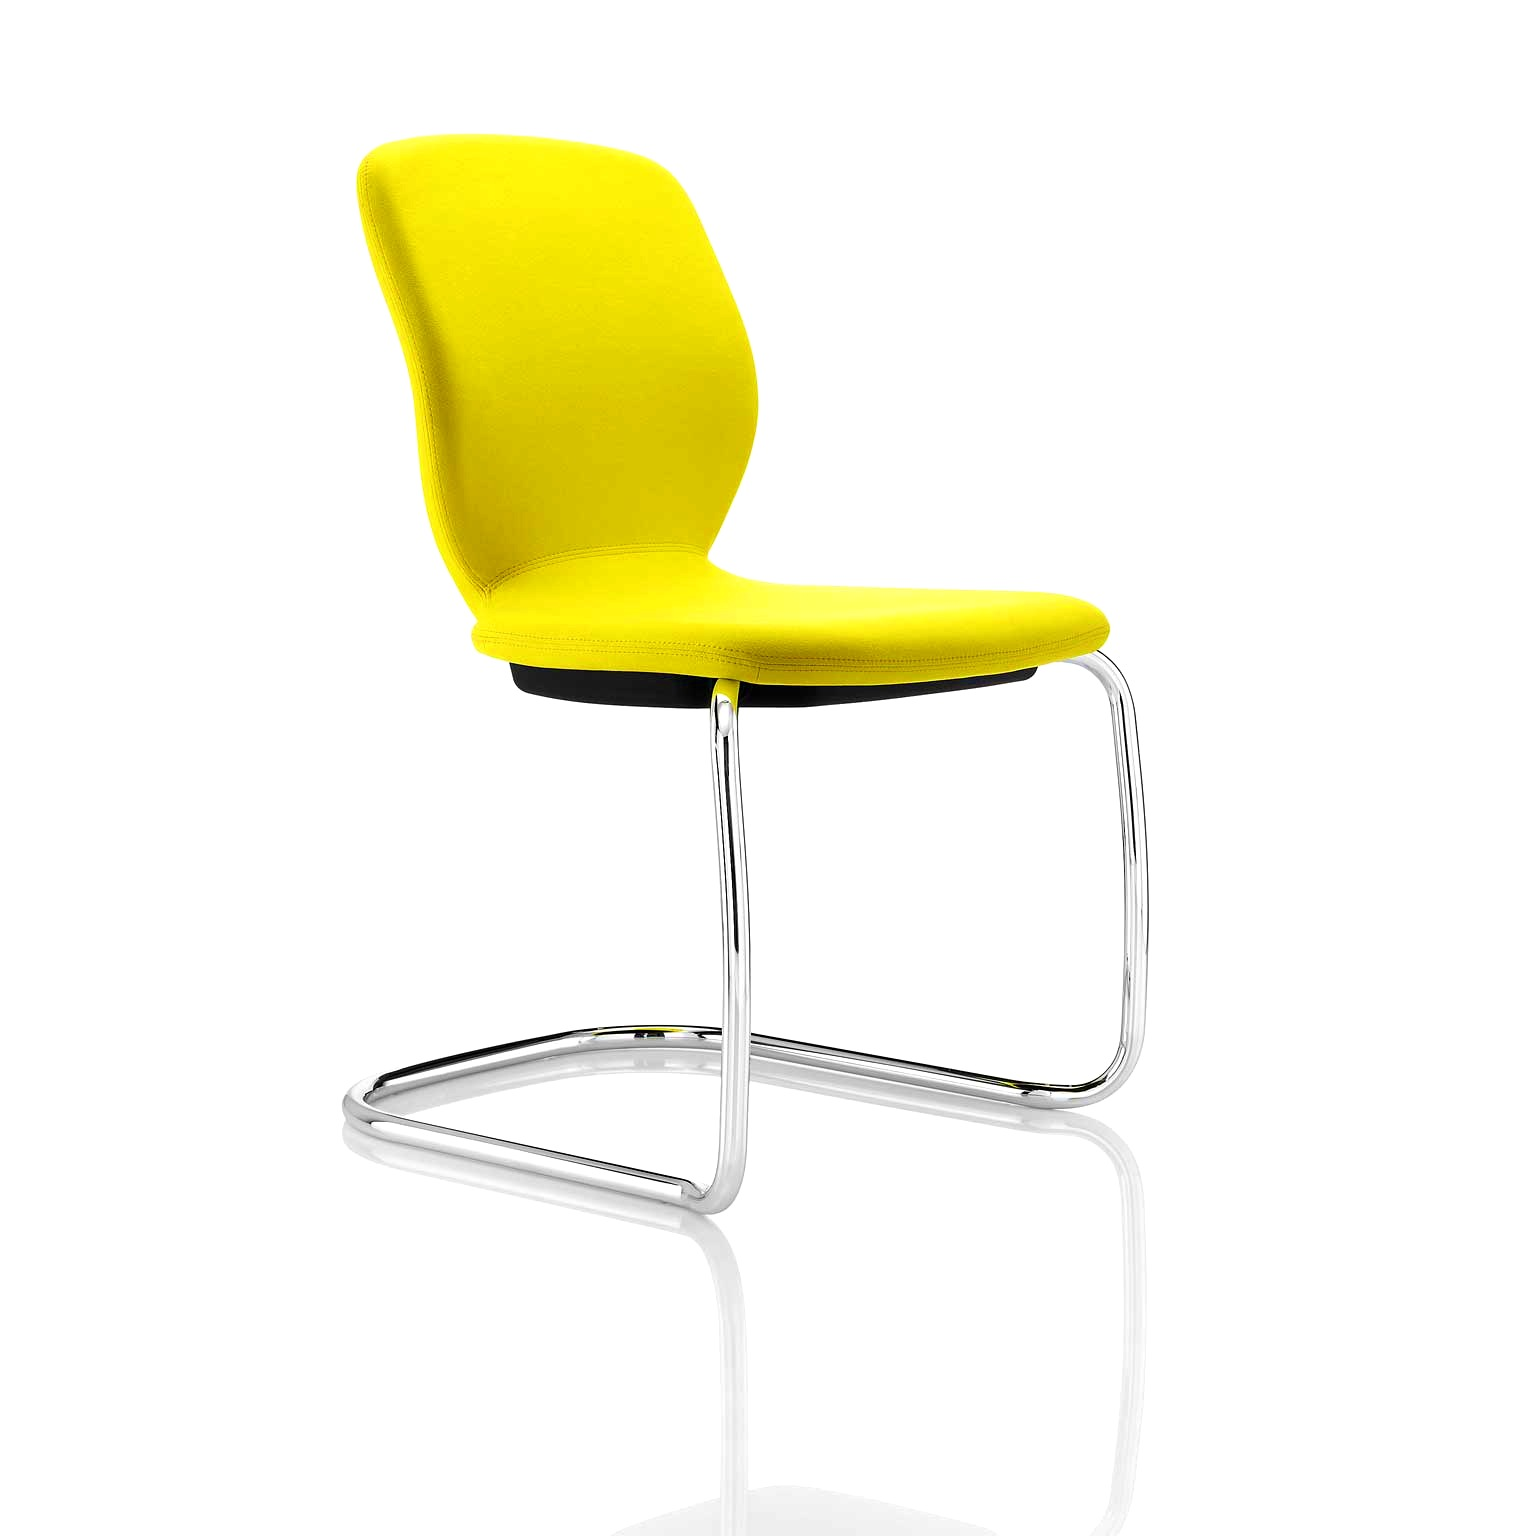chairs: (290, 142, 1167, 1227)
